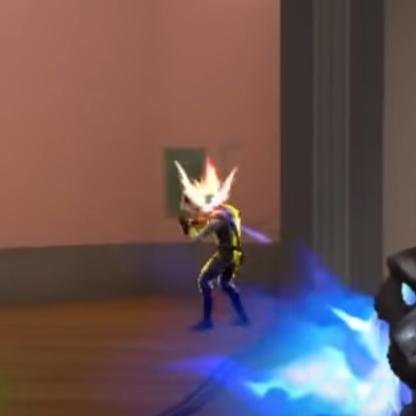enemyHead: (193, 178, 231, 221)
